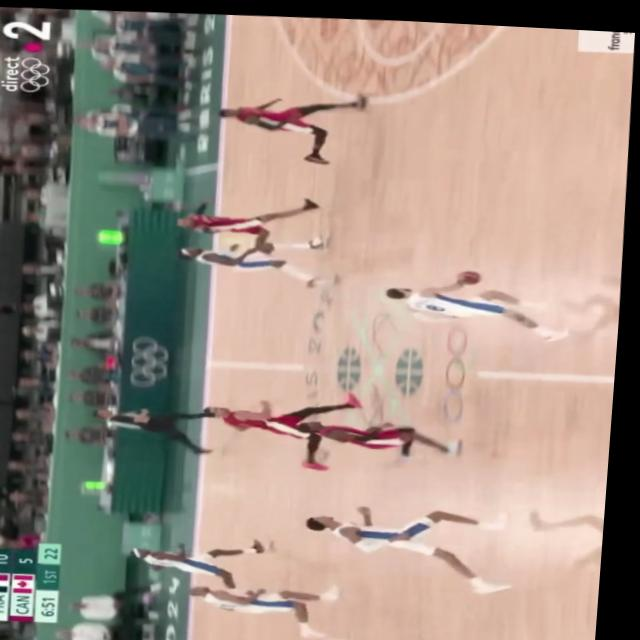ball_handler: (387, 259, 569, 324)
